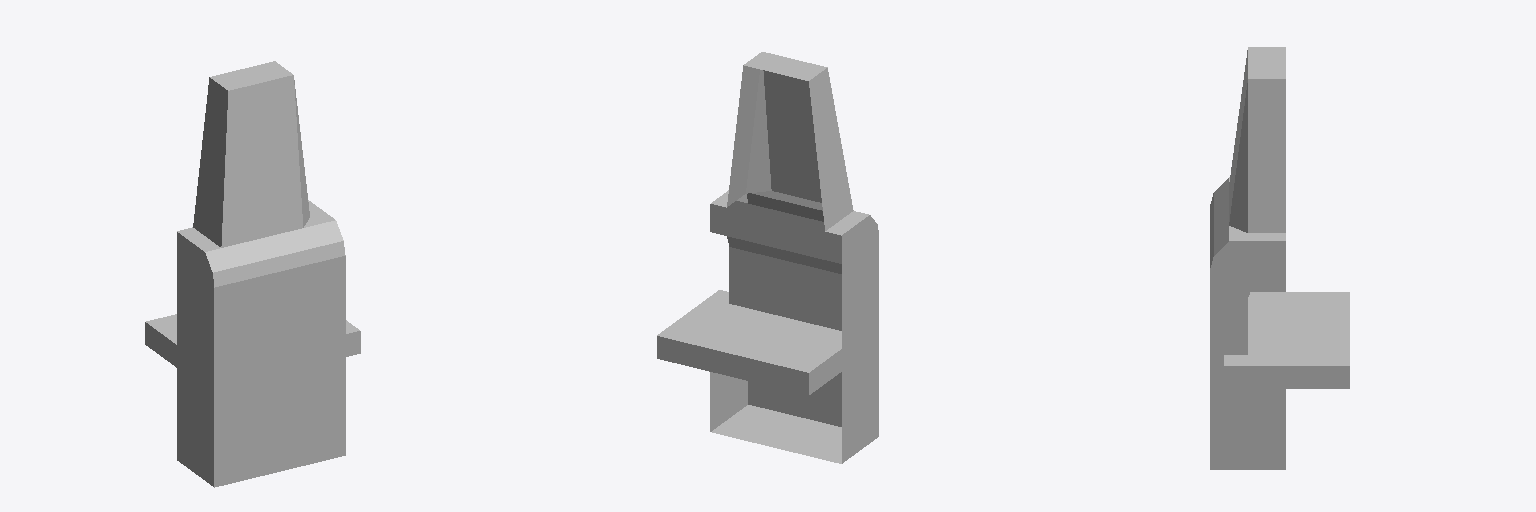
The model's file is Oven001.obj.
3 views of the same model, side by side, from view 1: azimuth 30°, elevation 25°; view 2: azimuth 150°, elevation 25°; view 3: azimuth 270°, elevation 25° (orthographic).
Visible parts, largest first — view 1: Box001, Box002; view 2: Box001, Box002; view 3: Box001, Box002.
Boxes of the visible parts, x1=… form: Box001: x1=177, y1=61, x2=345, y2=487; Box002: x1=145, y1=314, x2=360, y2=367; Box001: x1=710, y1=52, x2=878, y2=463; Box002: x1=657, y1=290, x2=841, y2=395; Box001: x1=1210, y1=47, x2=1285, y2=469; Box002: x1=1224, y1=292, x2=1349, y2=388.
Size of the model in its own units: 42 by 98.38 by 33.25.